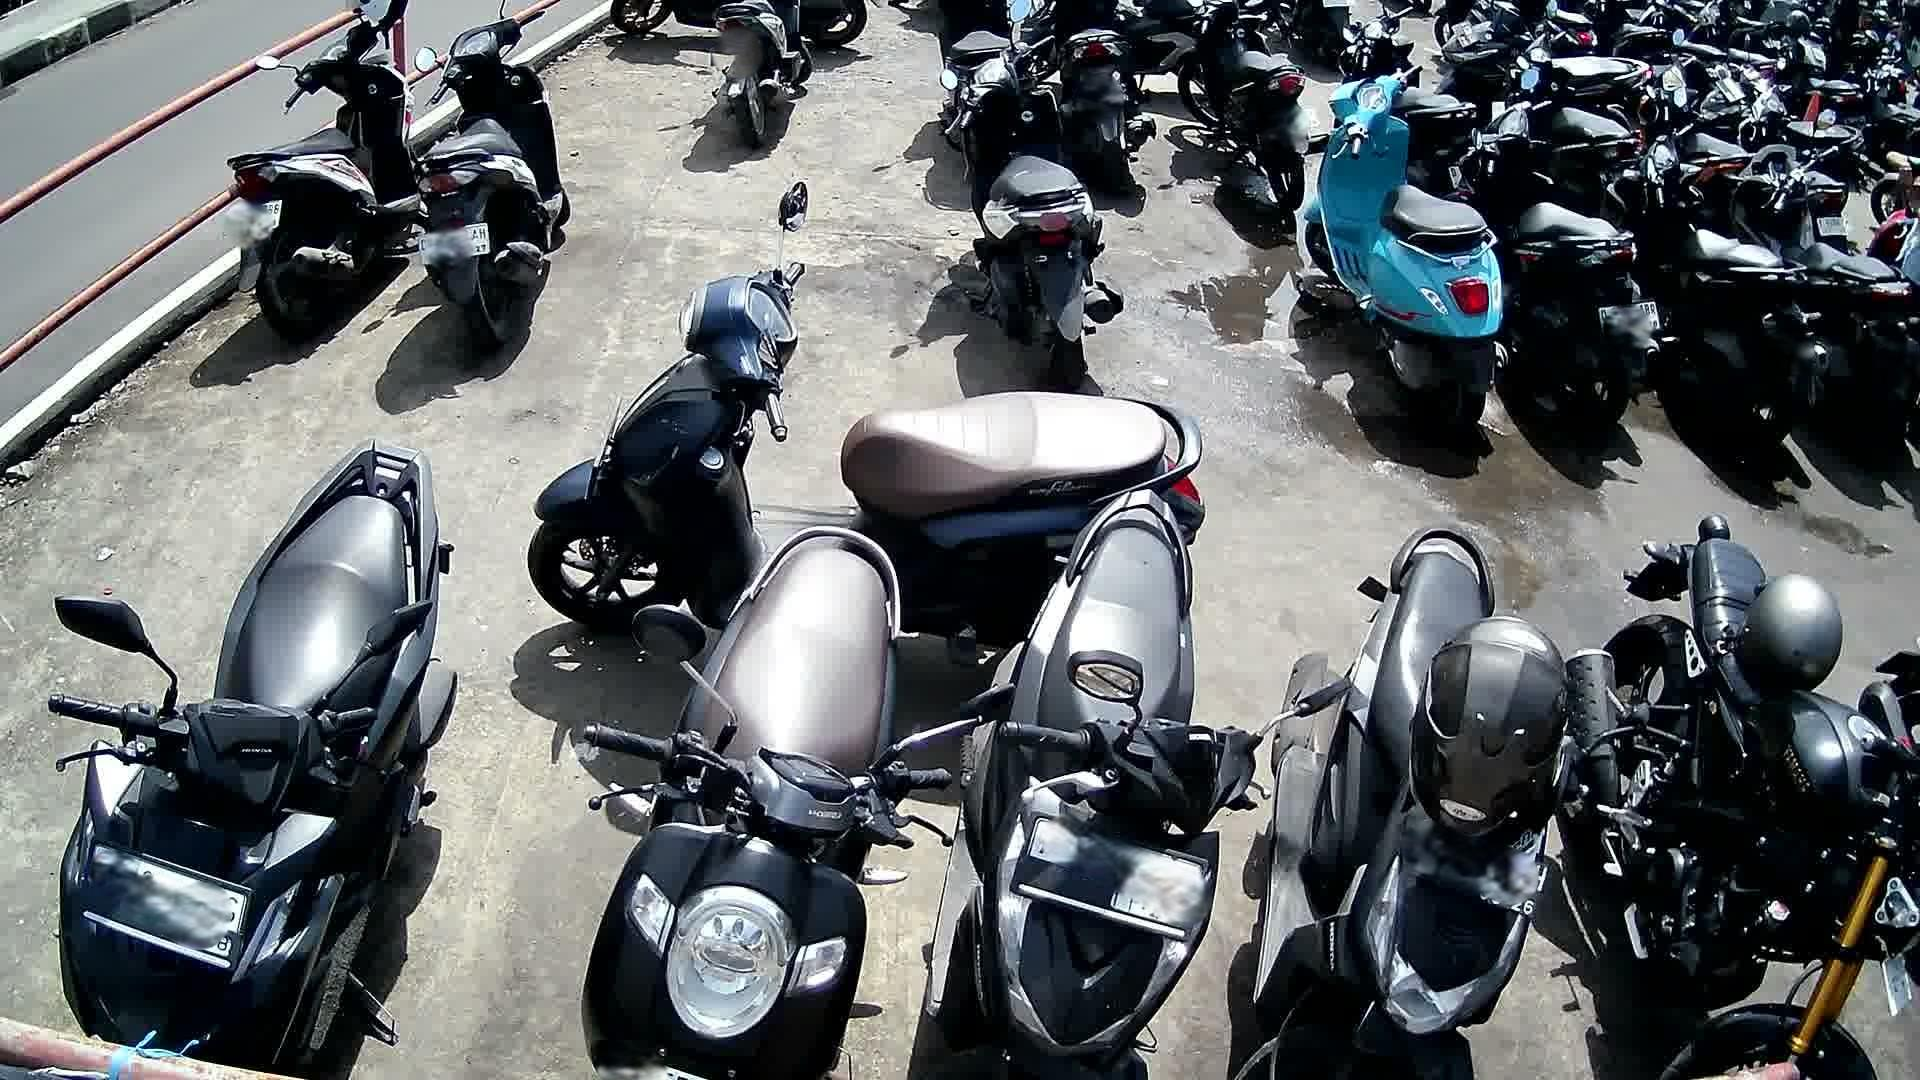motorcycle: (522, 179, 1207, 637), (47, 440, 459, 1060), (926, 489, 1348, 1080), (585, 526, 1015, 1080), (1255, 520, 1648, 1080), (1560, 514, 1920, 1080), (1605, 87, 1829, 450), (1300, 62, 1514, 439), (1458, 99, 1664, 442), (942, 9, 1124, 384), (225, 0, 422, 345), (1716, 144, 1920, 468), (414, 0, 572, 357)
